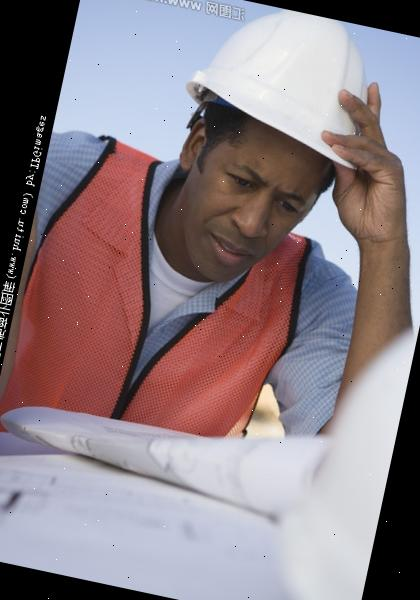helmet: (170, 0, 394, 175)
wear: (0, 199, 322, 471)
